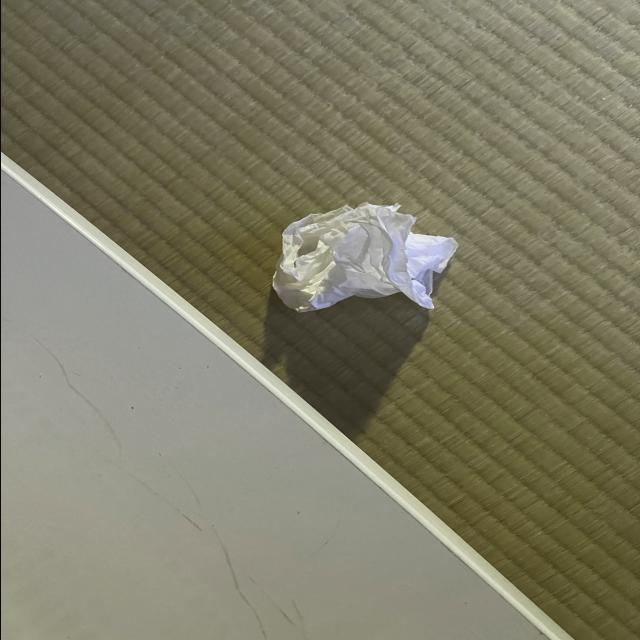Paper: (252, 184, 472, 320)
